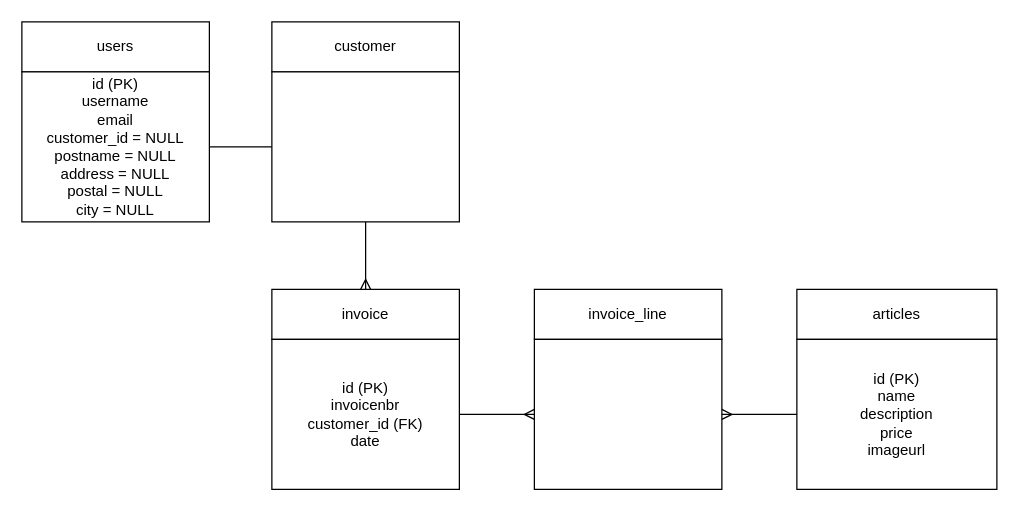
This 1019x511 diagram has some shape labels left out. Here are the shapes that lost their labels. From the top down, the centre of each, then its label:
the point at 365,146: id (PK) user_id (FK) customernbr postname address postal city
the point at 627,413: id (PK) invoice_id (FK) article_id (FK) article_name amount
